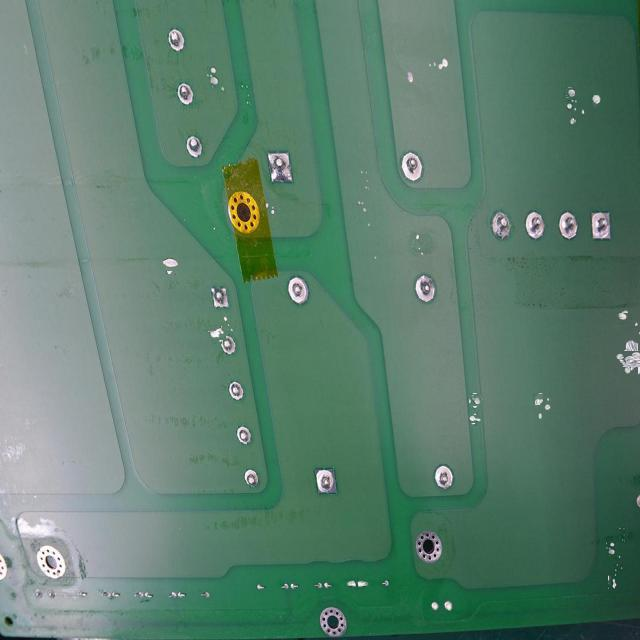spillover: (615, 344, 640, 373), (207, 66, 221, 91), (434, 53, 452, 71), (163, 256, 180, 273), (606, 541, 619, 559), (210, 328, 224, 342), (410, 231, 420, 247), (590, 95, 602, 108), (470, 393, 482, 406), (618, 310, 630, 322), (608, 572, 615, 591), (563, 88, 574, 99), (534, 393, 544, 405), (469, 414, 479, 425), (570, 113, 576, 126)
